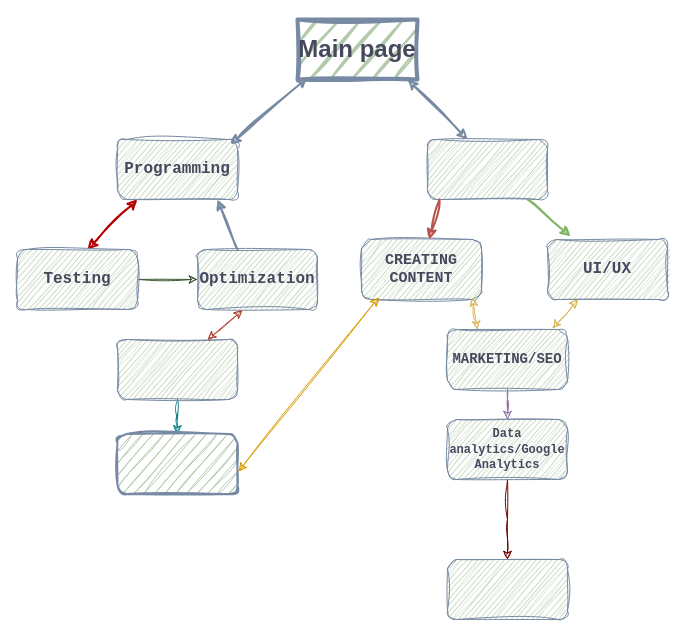
The diagram is 685 pixels wide and 637 high, and some of its shapes have lost their labels. Here are the shapes that lost their labels. From the top down, the centre of each, then its label:
(x=487, y=169): IT
(x=177, y=369): WebAssembly
(x=177, y=463): DATABASE
(x=507, y=589): Business integration
